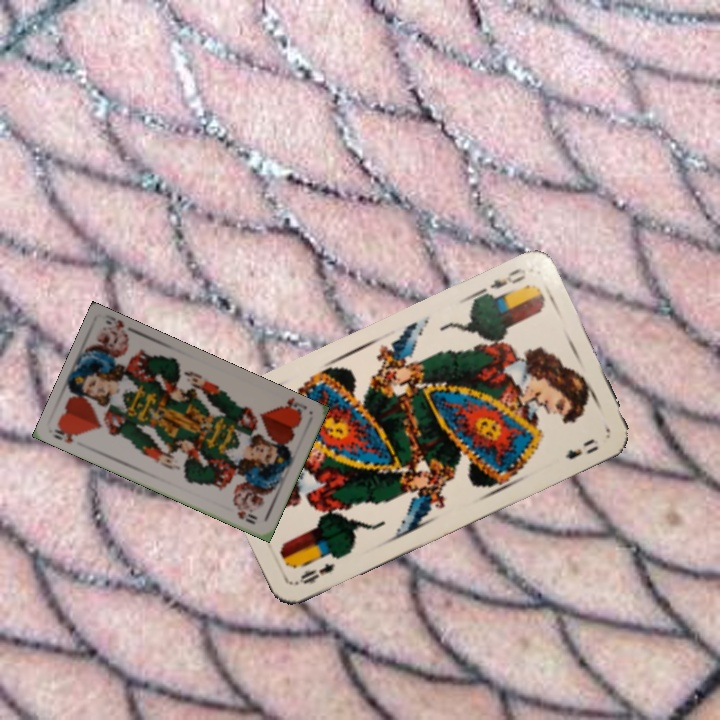EO: (476, 263, 529, 301), (291, 559, 337, 588)
HO: (275, 394, 310, 420), (50, 421, 81, 445)
